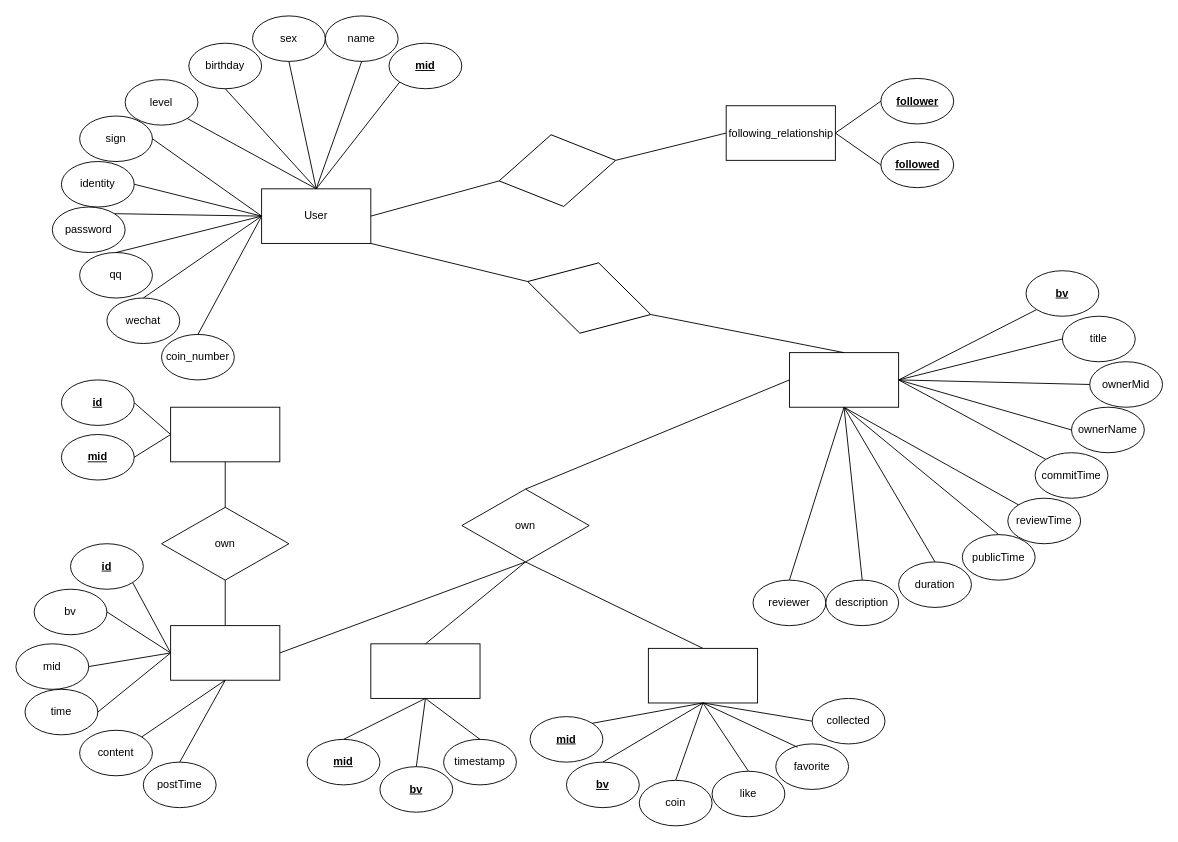
This 1178x842 diagram has some shape labels left out. The shapes that lost their labels are listed below. From the top down, each one's centre as x and y in pixels, then its label:
point (557, 170): following
point (588, 297): watched/posted
point (844, 379): Video
point (225, 434): likedBy
point (225, 652): danmu
point (425, 670): View
point (702, 675): recognition
